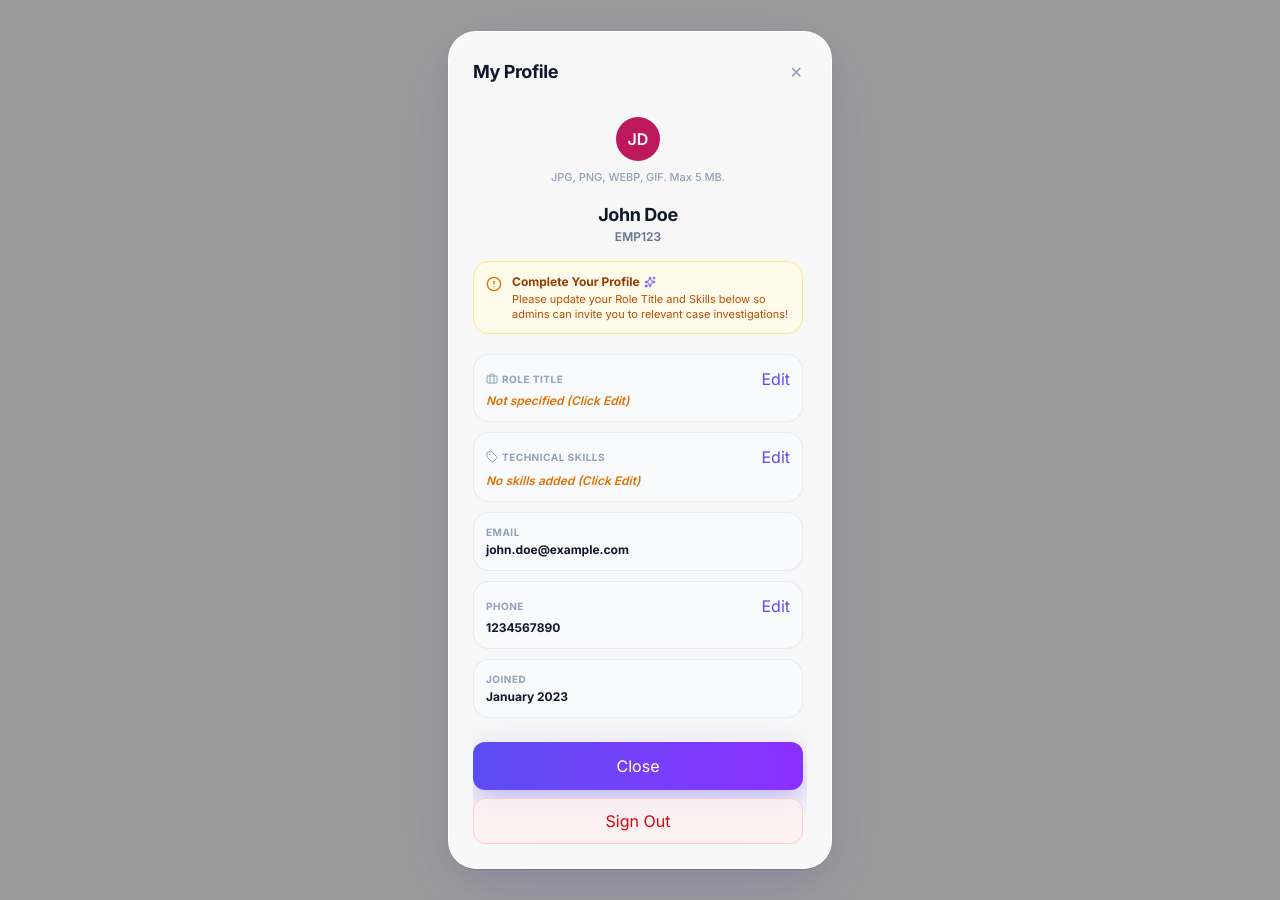
ProfileModal › allows editing phone number
Click the last Edit button which is for Phone in the current UI
What coordinates should you click on to do the following:
click the button "Edit" in the row of "Phone"
I would click on:
 (776, 606)
Its box is [762,594,790,618].
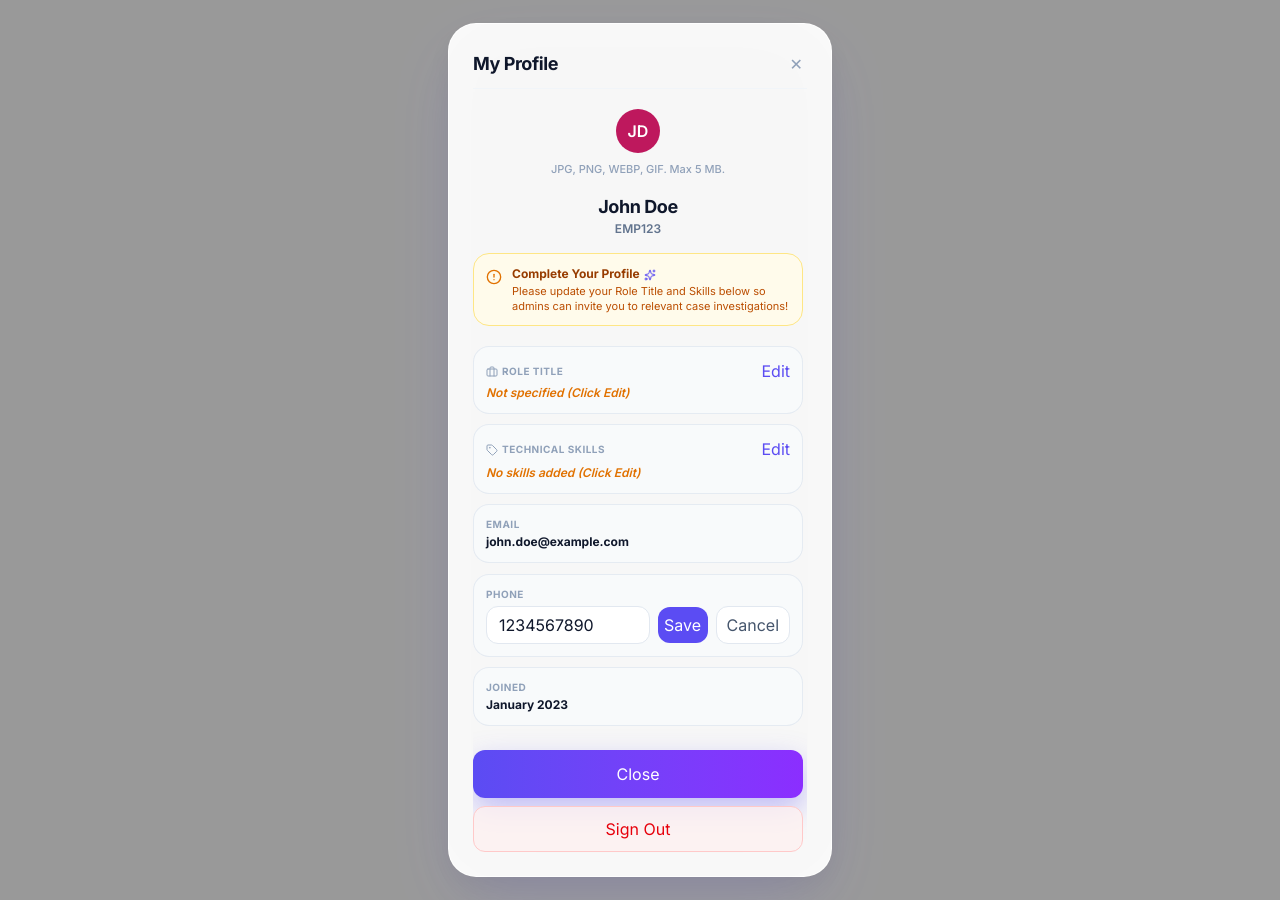
Result: the field with placeholder "Enter phone number" holds "1234567890" at [486,606,650,644]
